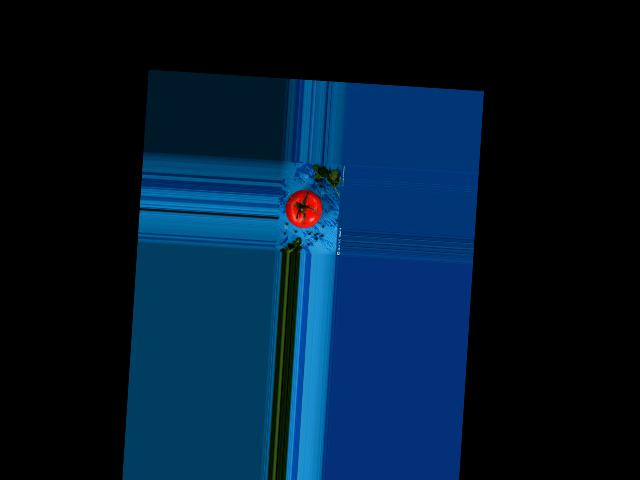tomato: (284, 188, 323, 228)
